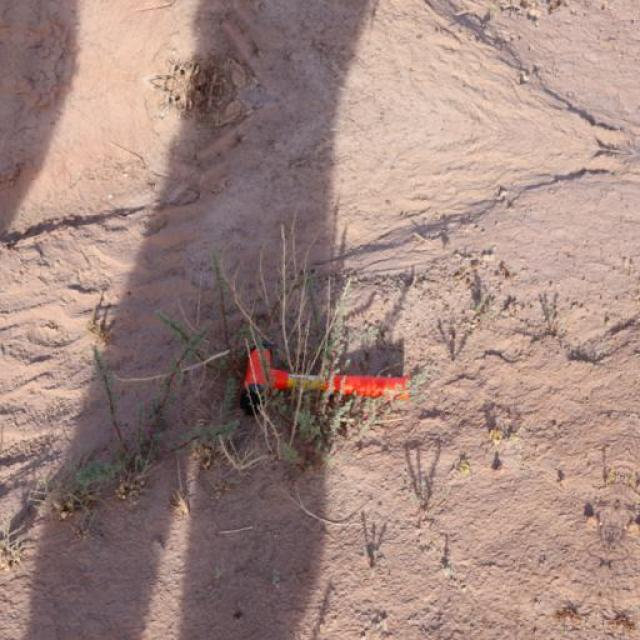mallet: (238, 340, 412, 416)
